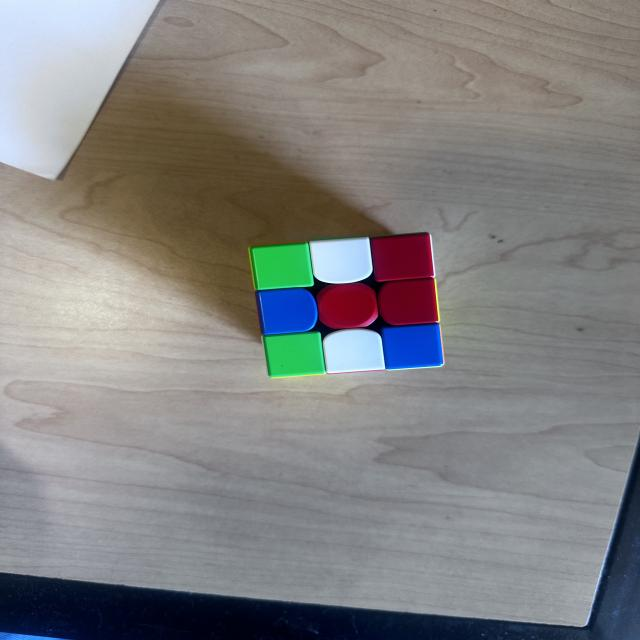sticker: (368, 231, 436, 284), (306, 236, 375, 287), (376, 276, 441, 328), (254, 286, 319, 338), (248, 241, 314, 292), (314, 281, 380, 331), (380, 322, 444, 371), (262, 331, 327, 378), (321, 328, 387, 374)
